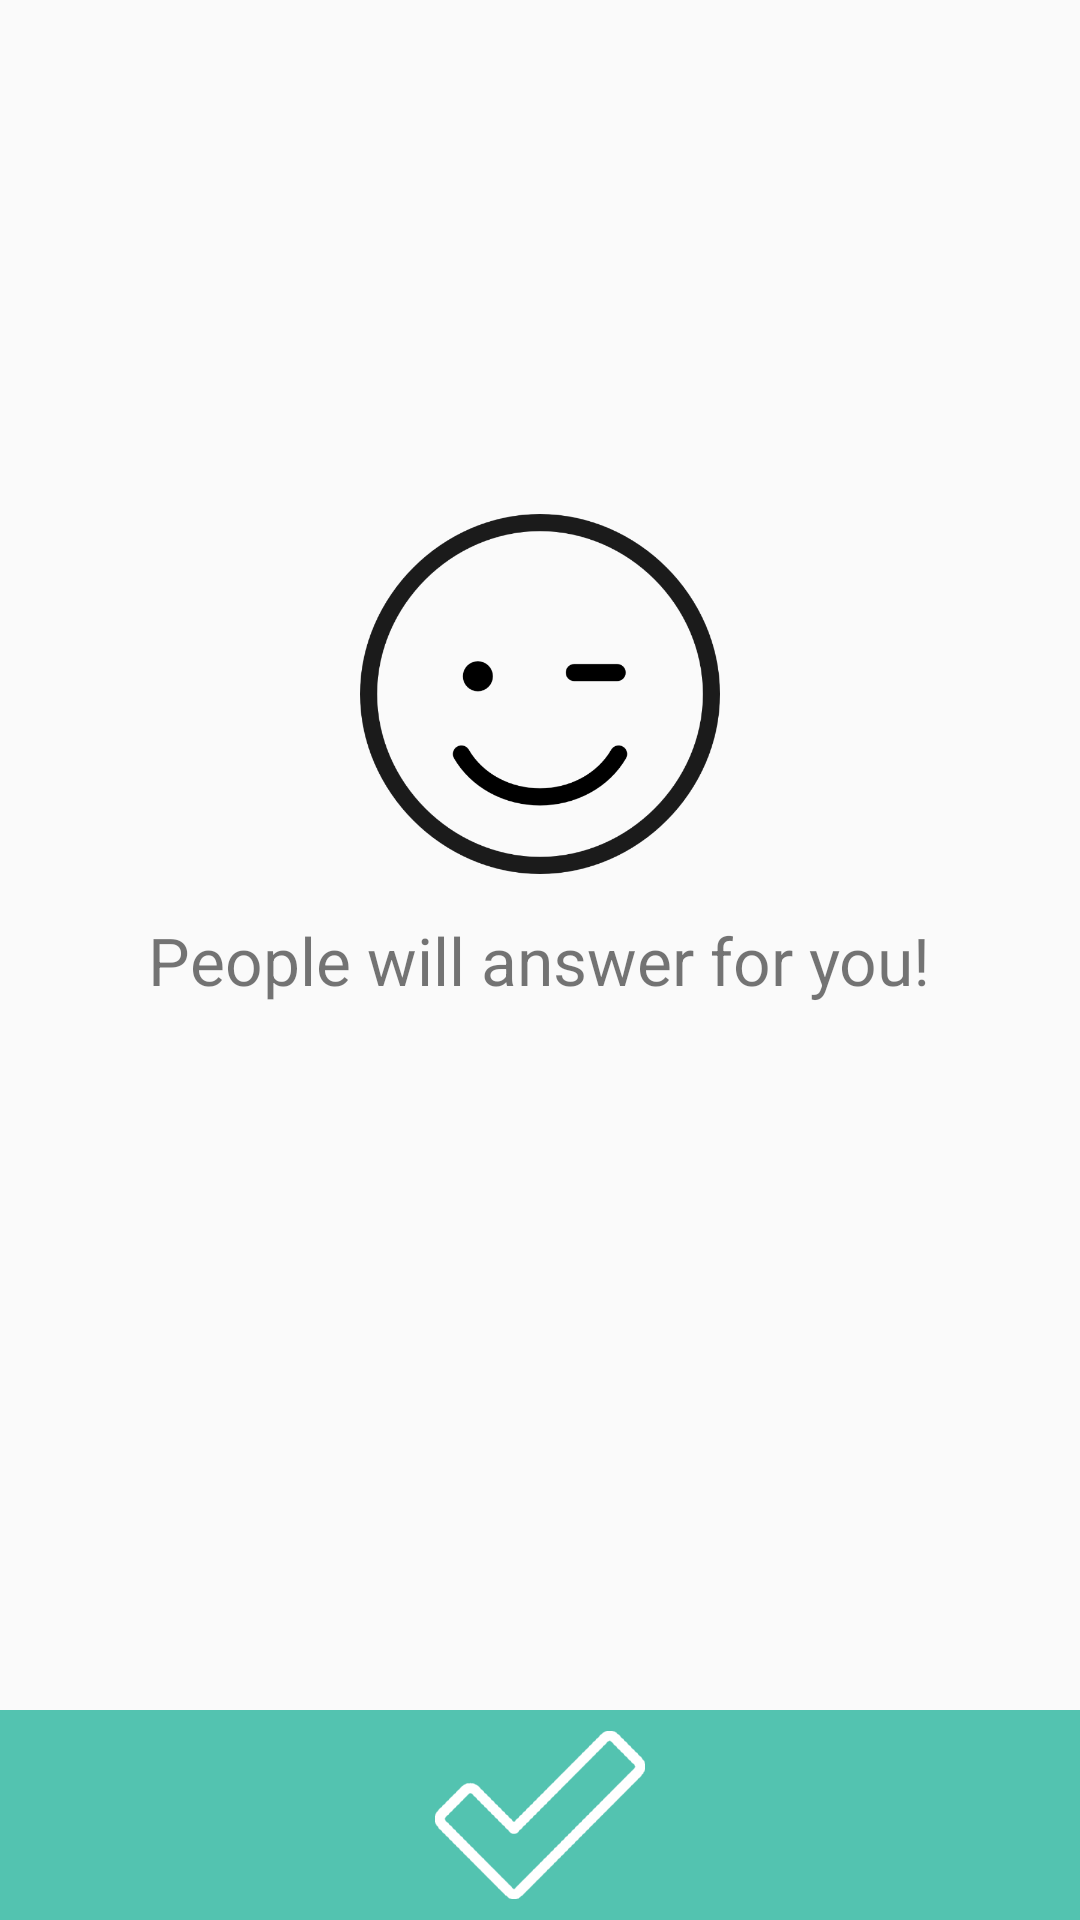

Icons on this 1080 x 1920 Android screen, each with the point to tap as [x,y]:
smile: [540,694]
